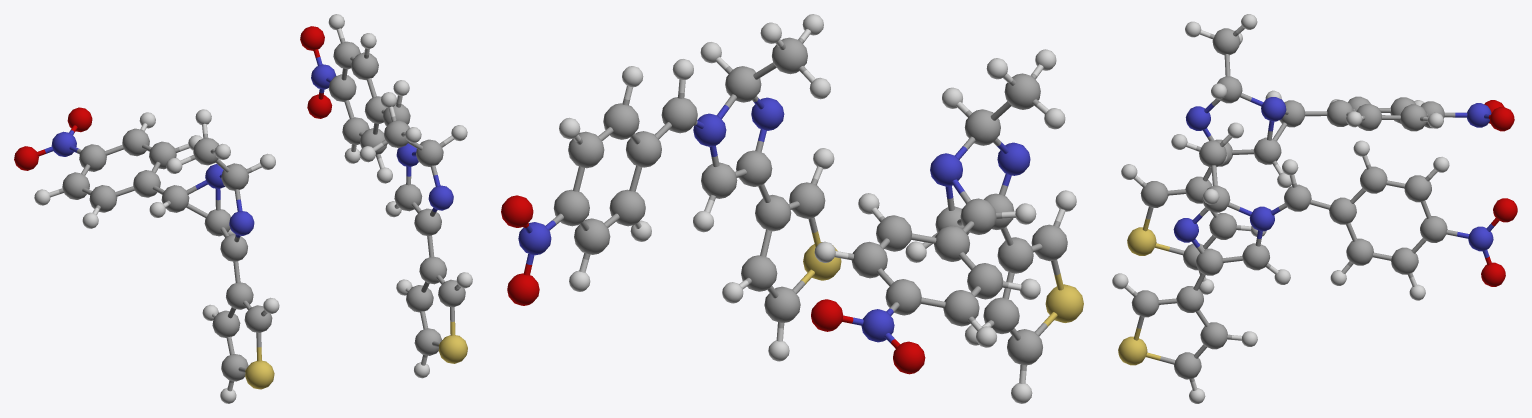
Rendered from thiopheneB.glb.
3 views of the same model, side by side, from view 1: azimuth 30°, elevation 25°; view 2: azimuth 150°, elevation 25°; view 3: azimuth 270°, elevation 25° (orthographic). The views are drawn at different scales.
Parts seen in each view (by area): view 1: Th-BA-B; view 2: Th-BA-B; view 3: Th-BA-B.
Boxes of the visible parts, bbox=[...] form: Th-BA-B: bbox=[14, 14, 472, 403]; Th-BA-B: bbox=[501, 14, 1083, 403]; Th-BA-B: bbox=[1112, 14, 1517, 403].
Bounding box in the file's own units: 2.89 × 2.45 × 3.06.
